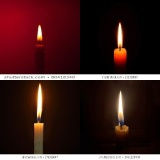fire: (35, 82, 43, 119), (117, 89, 125, 125), (116, 22, 124, 49), (35, 25, 43, 42)
